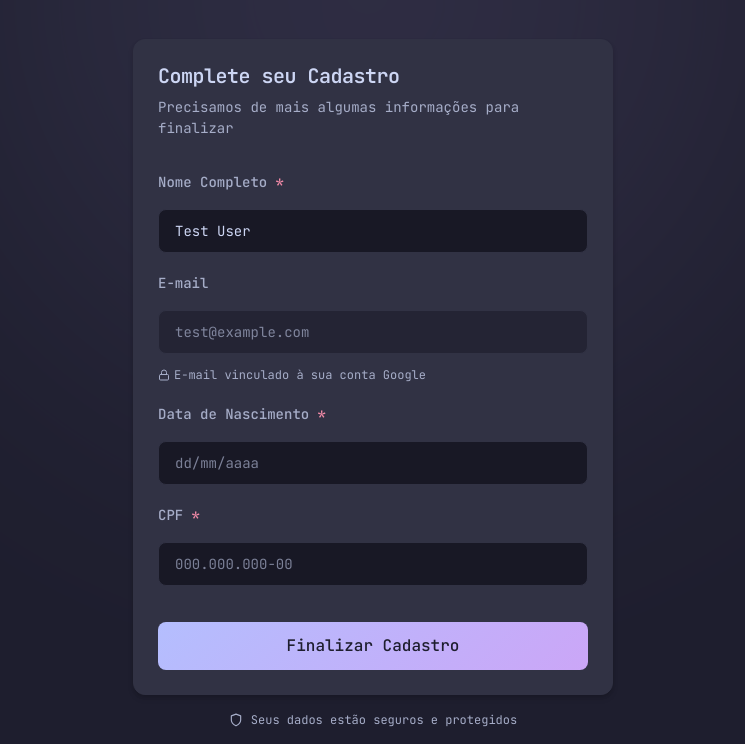
Test: RegisterCompleteView › envio do formulário › deve mostrar loading durante envio
Replace the text in the field with id "name" with "Test" at (373, 231), box x1=158 y1=209 x2=588 y2=253
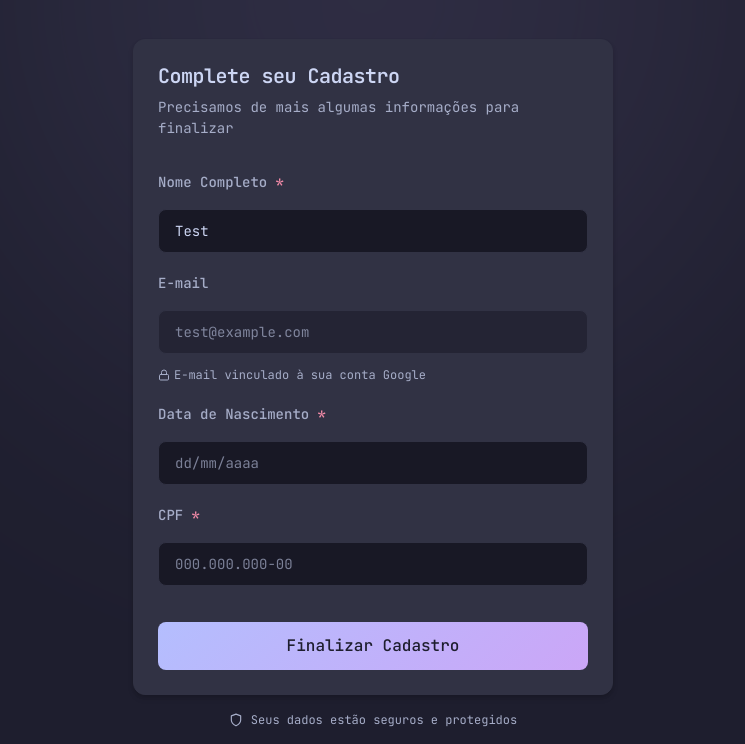
Type "15/05/1990" into the field with id "birth_date" at (373, 463), box x1=158 y1=441 x2=588 y2=485
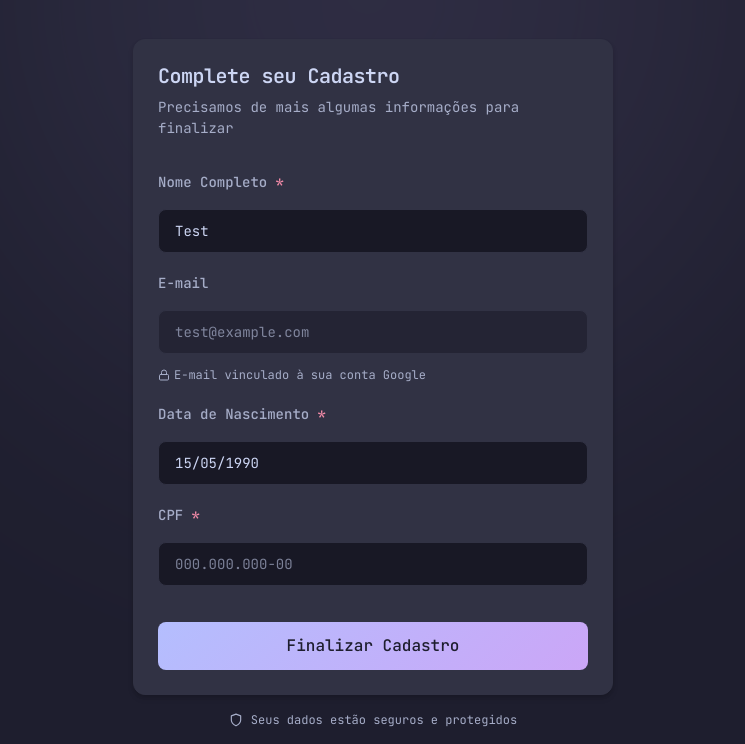
Type "123.456.789-00" into the field with id "cpf" at (373, 564), box x1=158 y1=542 x2=588 y2=586
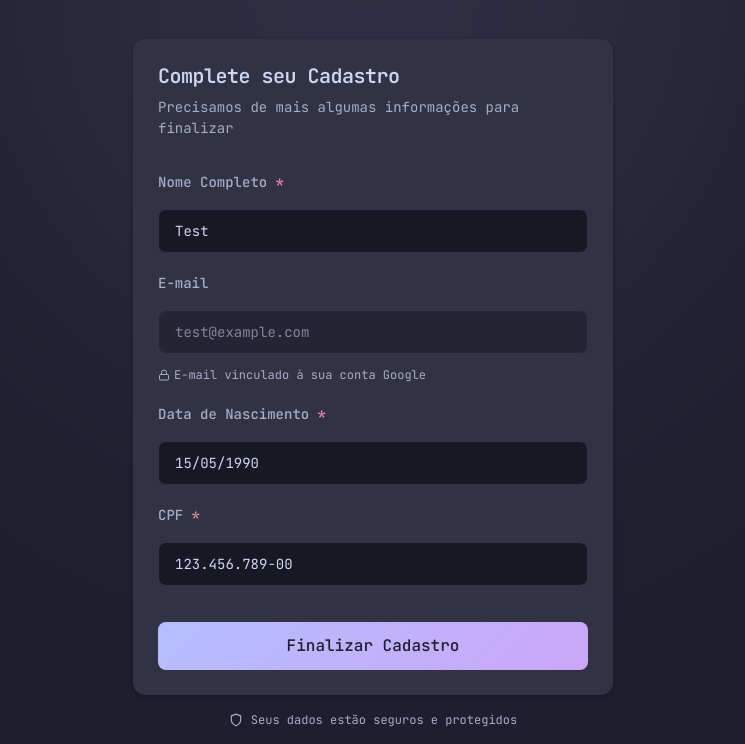
Submit the form, box x1=158 y1=172 x2=588 y2=670
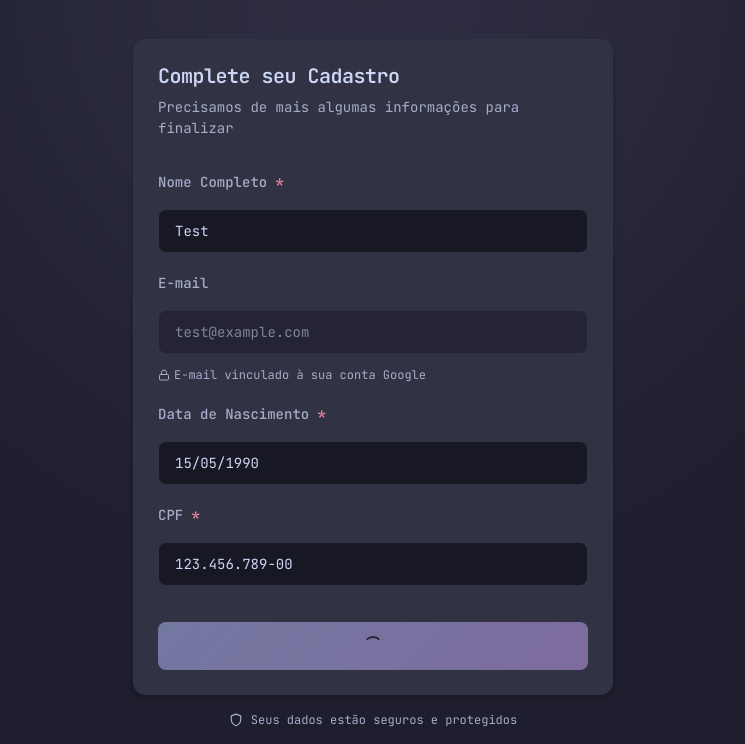
Check: the submit button reads "Salvando...", box x1=158 y1=622 x2=588 y2=670
Check: the submit button is disabled, box x1=158 y1=622 x2=588 y2=670
